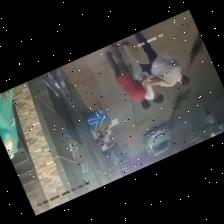person: (134, 31, 189, 85), (105, 43, 150, 108), (121, 41, 164, 102), (204, 104, 215, 124), (217, 119, 223, 131)
